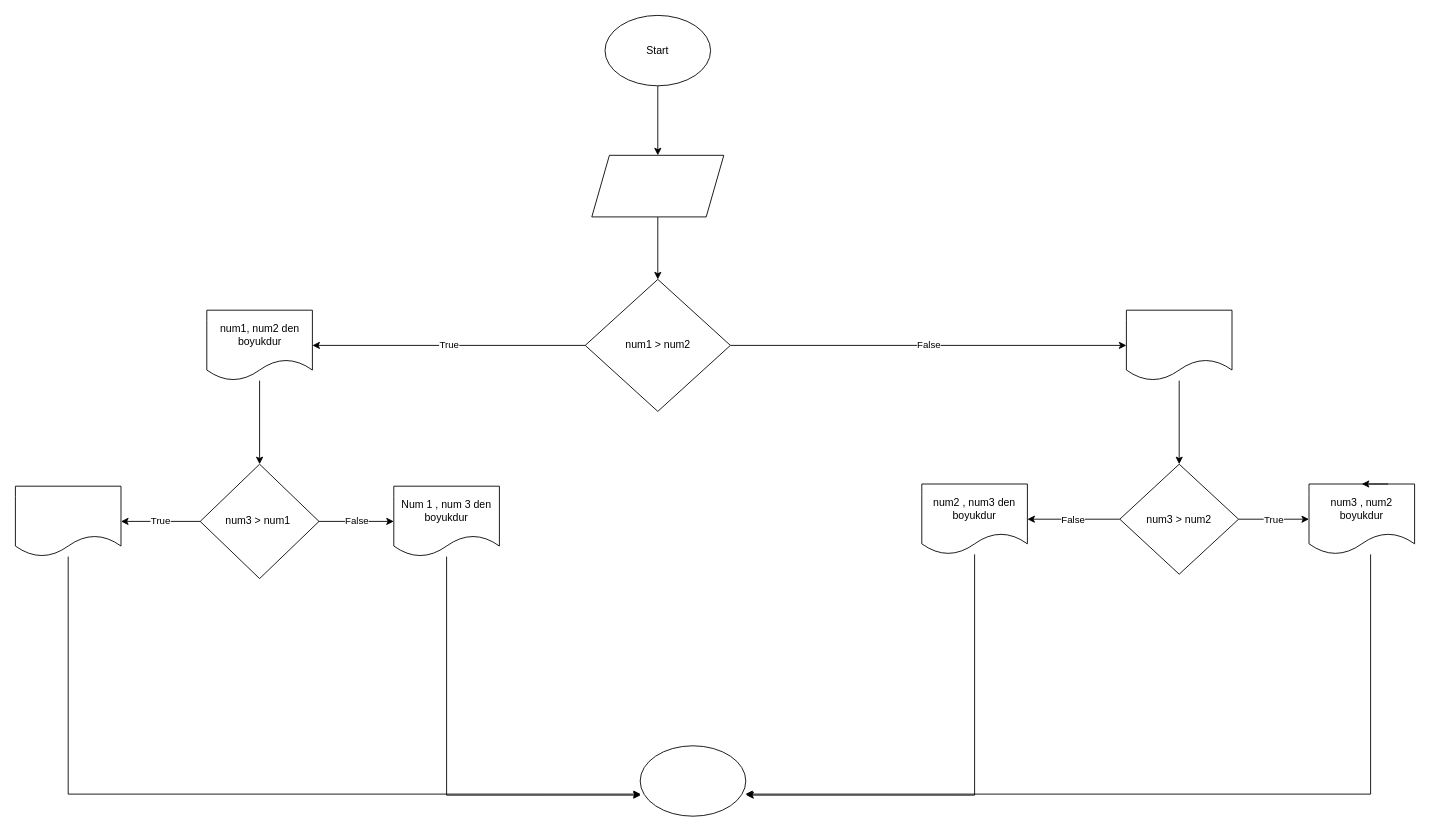
The diagram is 1430 pixels wide and 832 high, and some of its shapes have lost their labels. Each missing label, with the centre of its shape:
End: the point at 692,780
Num1=5 Num2 =10 Num3 =15: the point at 657,185
num2, num1 den boyukdur: the point at 1179,345
num3 , num1 den boyukdur: the point at 68,521
